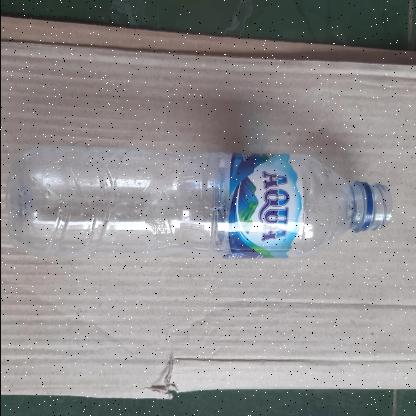Plastic Bottle: (3, 143, 391, 259)
